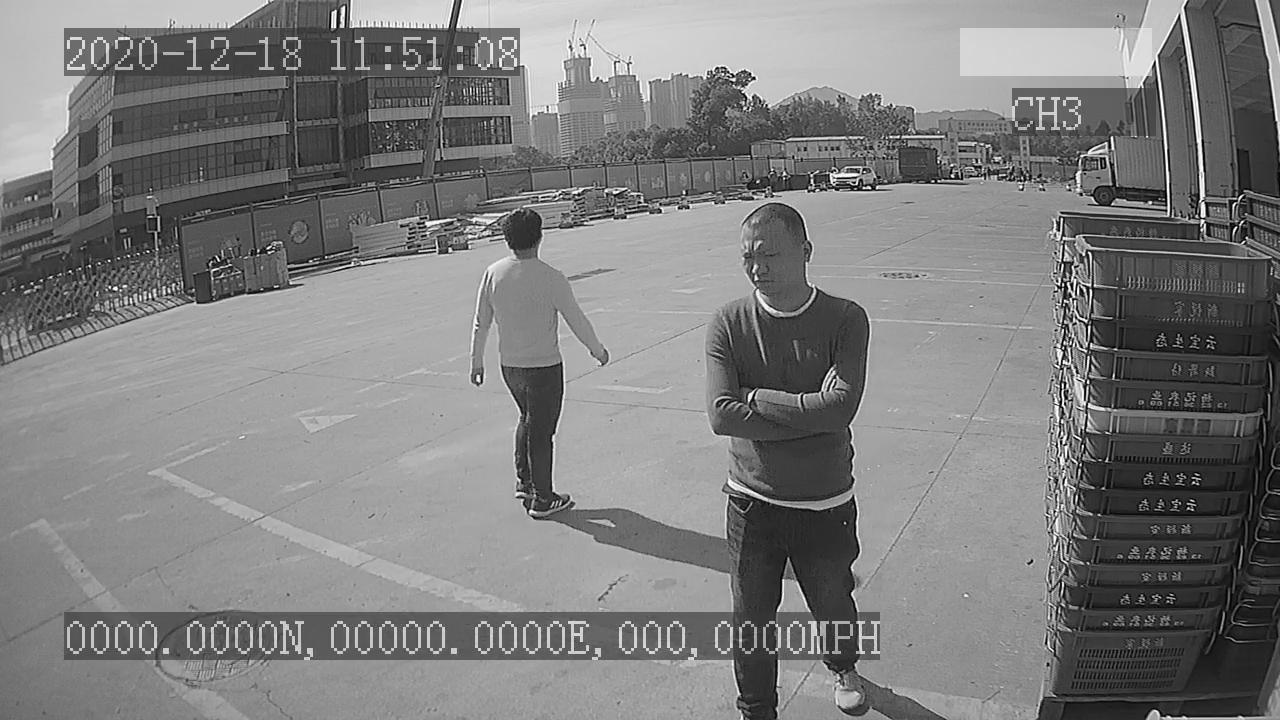person: (465, 201, 613, 522)
